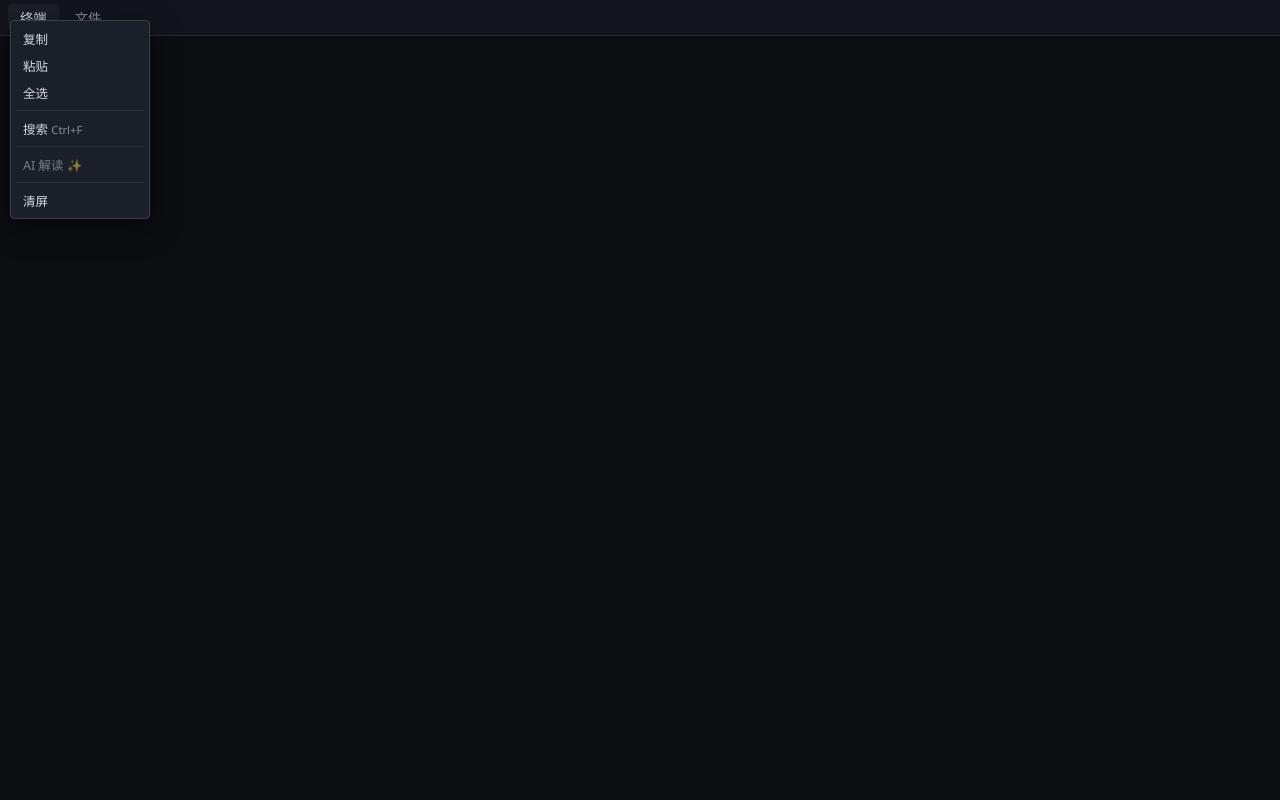
Test: TerminalPane（右键上下文菜单窗口级关闭，S267/S273） › S275 窗口级 pointerdown 关闭：拖选文本起手即关，不等 mouseup
Expected: the menu with class "ctx-menu" is shown, [10,20,150,219]
Press the mouse on the element showing "终端 文件 复制 粘贴 全选 搜索 Ctrl+F AI 解读 ✨ 清屏" at (640, 400), box [0,0,1279,799]
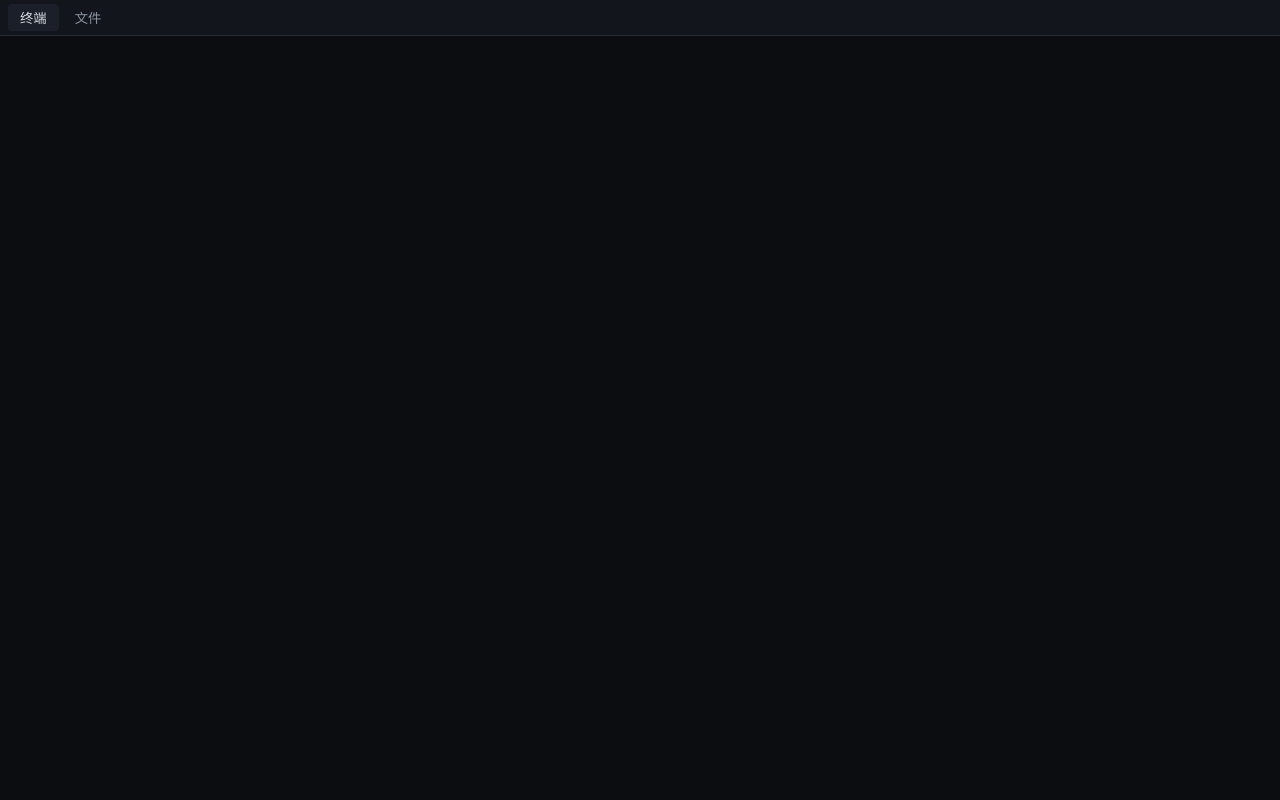
Expected: the menu with class "ctx-menu" is gone
